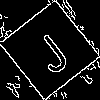J: (24, 24, 73, 77)
